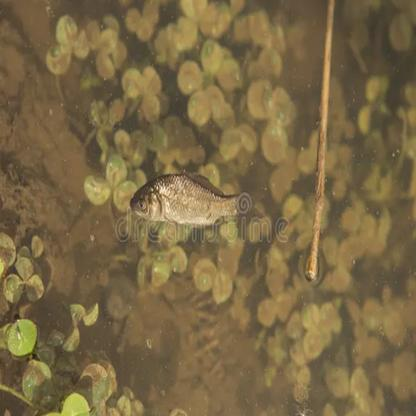deceased fish: (131, 177, 249, 221)
